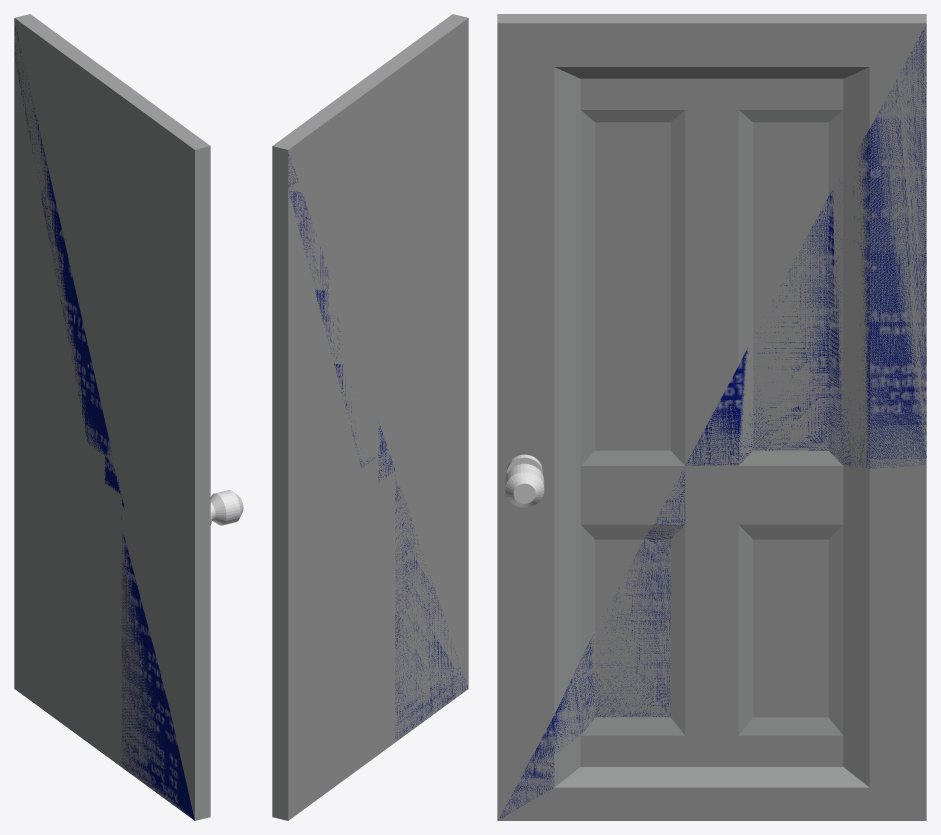
Rendered from Door Portal.fbx.
3 renders of one model, left to right at view 1: azimuth 30°, elevation 25°; view 2: azimuth 150°, elevation 25°; view 3: azimuth 270°, elevation 25°, orthographic. The views are drawn at different scales.
Parts seen in each view (by area): view 1: Door, Door.001, Cylinder; view 2: Door, Door.001; view 3: Door, Door.001, Cylinder.
Boxes of the visible parts, x1=… form: Door: x1=14, y1=14, x2=210, y2=820; Door.001: x1=14, y1=18, x2=194, y2=820; Cylinder: x1=210, y1=490, x2=243, y2=525; Door: x1=272, y1=14, x2=468, y2=820; Door.001: x1=288, y1=123, x2=468, y2=742; Door: x1=497, y1=14, x2=926, y2=820; Door.001: x1=497, y1=24, x2=926, y2=819; Cylinder: x1=505, y1=454, x2=544, y2=507.
Size of the model in its own units: 73.45 by 850 by 414.
